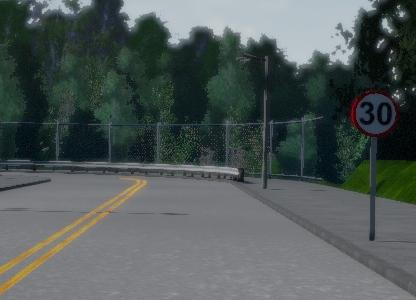Speed_30: (350, 87, 399, 140)
